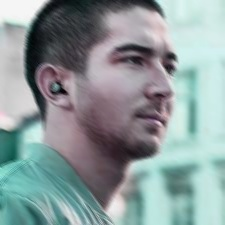earphone: (36, 64, 72, 111)
